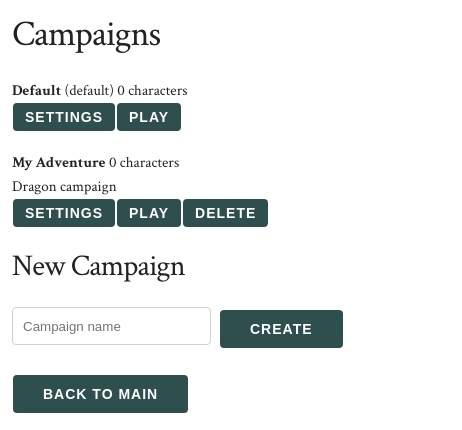
Test case: CampaignsScreen › cancel button dismisses the delete confirmation
Click the button "Delete" at (226, 213), box [183,199,268,227]
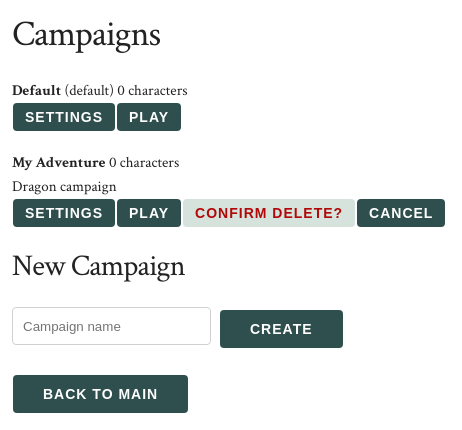
Click the button "Cancel" at (401, 213), box [357,199,445,227]
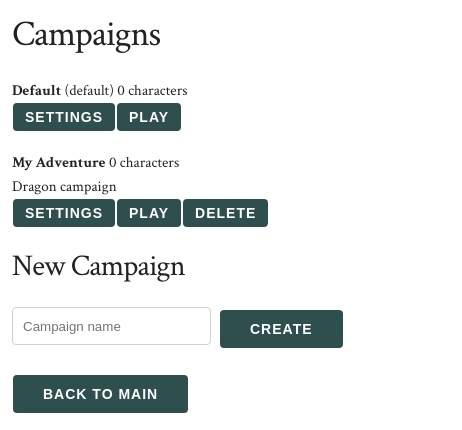
Now the button "Confirm Delete" is gone
